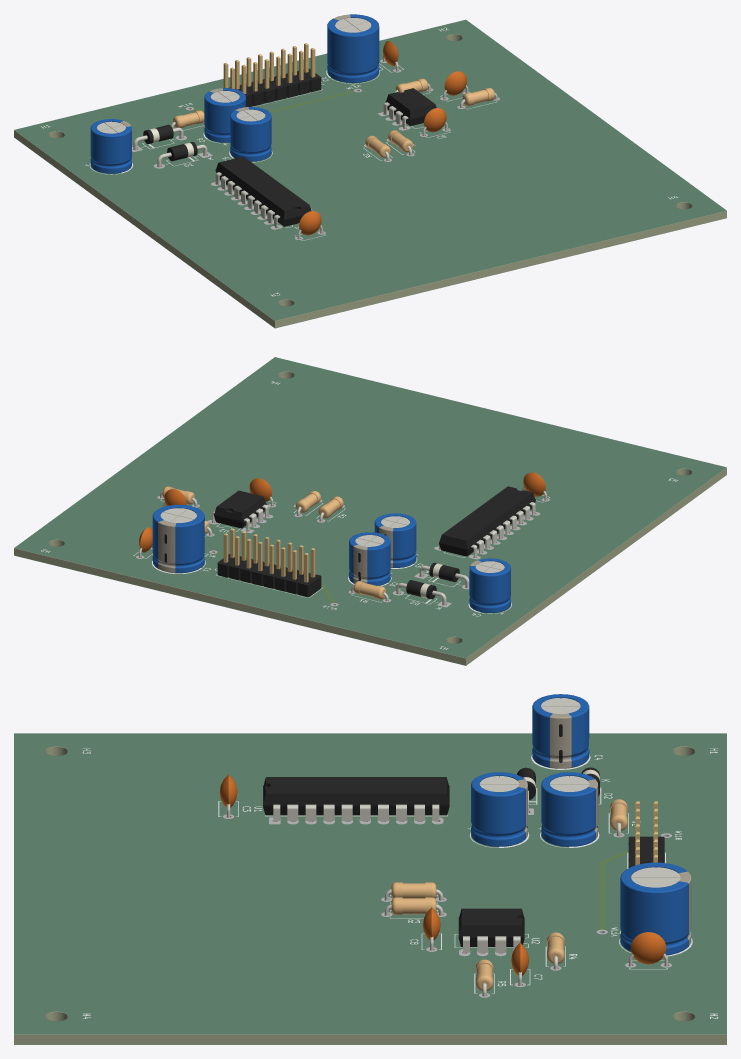
Rendered from vinyl-adc-power.glb.
The picture shows the model from 3 angles, top to bottom: view 1: azimuth 30°, elevation 25°; view 2: azimuth 150°, elevation 25°; view 3: azimuth 270°, elevation 25°; orthographic projection. The views are drawn at different scales.
Parts seen in each view (by area): view 1: =>[0:1:1:23], =>[0:1:1:21], =>[0:1:1:15] (×3), =>[0:1:1:11], =>[0:1:1:13], =>[0:1:1:9], =>[0:1:1:17], =>[0:1:1:3] (×2), =>[0:1:1:19], =>[0:1:1:20], =>[0:1:1:22]; view 2: =>[0:1:1:23], =>[0:1:1:21], =>[0:1:1:15] (×3), =>[0:1:1:11], =>[0:1:1:13], =>[0:1:1:9], =>[0:1:1:17], =>[0:1:1:3] (×2), =>[0:1:1:19], =>[0:1:1:20], =>[0:1:1:22]; view 3: =>[0:1:1:23], =>[0:1:1:21], =>[0:1:1:15] (×3), =>[0:1:1:13], =>[0:1:1:9], =>[0:1:1:17], =>[0:1:1:20], =>[0:1:1:7] (×2), =>[0:1:1:11], =>[0:1:1:19], =>[0:1:1:5], =>[0:1:1:22].
Part boxes in pixels (bbox=[...]): =>[0:1:1:23]: bbox=[14, 20, 726, 328]; =>[0:1:1:21]: bbox=[14, 19, 726, 320]; =>[0:1:1:15] (×3): bbox=[90, 88, 271, 173]; =>[0:1:1:11]: bbox=[223, 43, 321, 106]; =>[0:1:1:13]: bbox=[215, 156, 312, 228]; =>[0:1:1:9]: bbox=[327, 14, 379, 82]; =>[0:1:1:17]: bbox=[383, 88, 436, 129]; =>[0:1:1:3] (×2): bbox=[133, 124, 207, 167]; =>[0:1:1:19]: bbox=[132, 59, 499, 239]; =>[0:1:1:20]: bbox=[41, 27, 677, 296]; =>[0:1:1:22]: bbox=[14, 137, 726, 328]; =>[0:1:1:23]: bbox=[14, 358, 726, 665]; =>[0:1:1:21]: bbox=[14, 357, 726, 658]; =>[0:1:1:15] (×3): bbox=[349, 513, 510, 612]; =>[0:1:1:11]: bbox=[217, 528, 321, 597]; =>[0:1:1:13]: bbox=[439, 486, 535, 557]; =>[0:1:1:9]: bbox=[152, 504, 204, 573]; =>[0:1:1:17]: bbox=[212, 490, 268, 531]; =>[0:1:1:3] (×2): bbox=[396, 562, 469, 605]; =>[0:1:1:19]: bbox=[136, 496, 549, 607]; =>[0:1:1:20]: bbox=[41, 381, 677, 649]; =>[0:1:1:22]: bbox=[15, 475, 726, 665]; =>[0:1:1:23]: bbox=[14, 734, 726, 1044]; =>[0:1:1:21]: bbox=[14, 733, 726, 1034]; =>[0:1:1:15] (×3): bbox=[471, 694, 598, 846]; =>[0:1:1:13]: bbox=[263, 777, 449, 821]; =>[0:1:1:9]: bbox=[620, 862, 691, 955]; =>[0:1:1:17]: bbox=[458, 908, 524, 953]; =>[0:1:1:20]: bbox=[82, 748, 718, 1018]; =>[0:1:1:7] (×2): bbox=[384, 882, 443, 915]; =>[0:1:1:11]: bbox=[628, 801, 664, 867]; =>[0:1:1:19]: bbox=[223, 808, 671, 997]; =>[0:1:1:5]: bbox=[629, 932, 668, 966]; =>[0:1:1:22]: bbox=[14, 1044, 726, 1044].
Bounding box in the file's own units: 0.1 × 0.0133 × 0.1.
